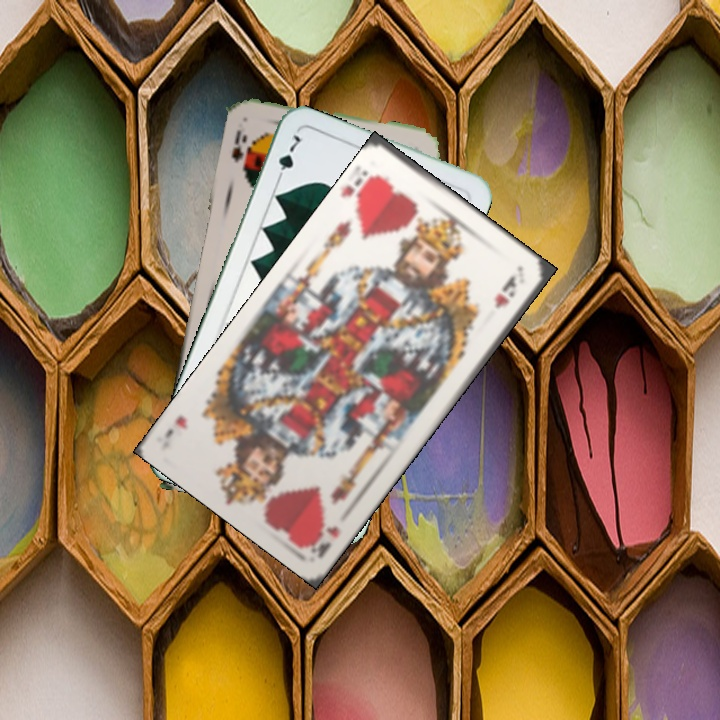G7: (272, 130, 306, 186)
HK: (349, 166, 383, 214), (304, 519, 343, 560)
SO: (228, 125, 250, 165)
